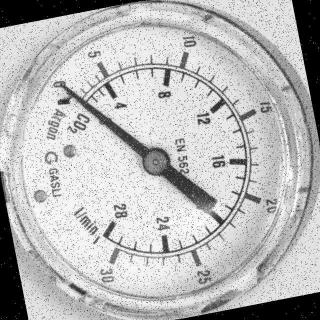gauge: (0, 0, 320, 320), (139, 144, 173, 179), (88, 217, 122, 251), (47, 74, 79, 100), (54, 77, 74, 96)
